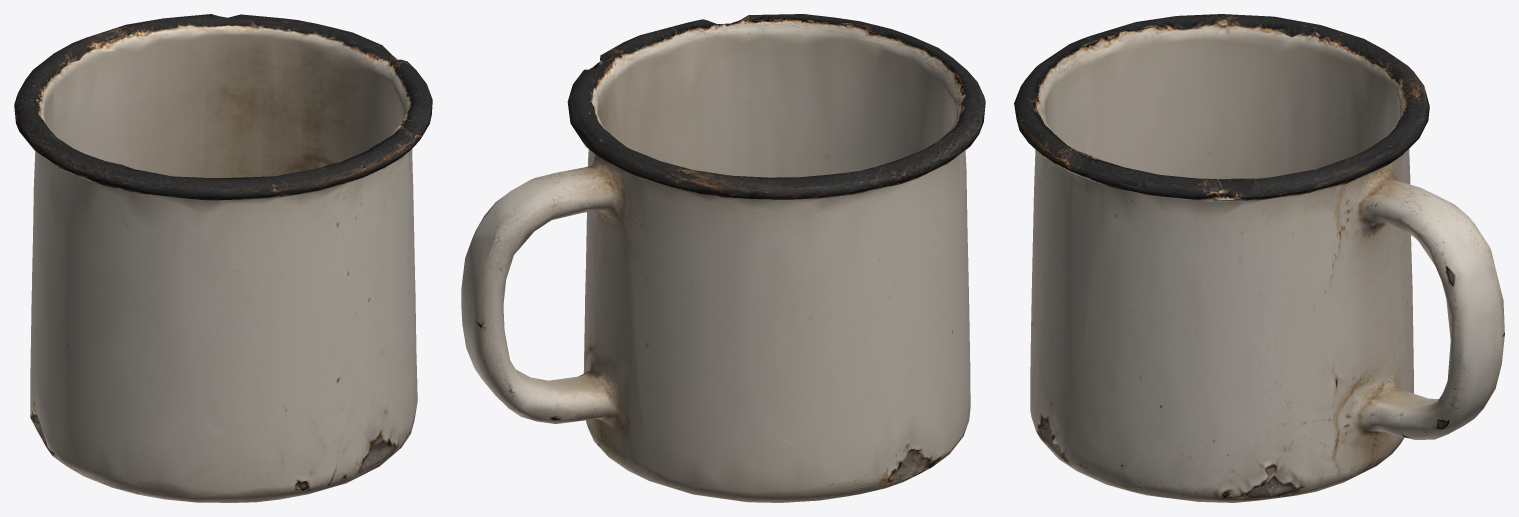
Rendered from PROP-LIFE-MUG.glb.
The picture shows the model from 3 angles, left to right: view 1: azimuth 30°, elevation 25°; view 2: azimuth 150°, elevation 25°; view 3: azimuth 270°, elevation 25°; orthographic projection.
Visible parts, largest first — view 1: tripo_node_a509e55e-d414-42db-ba04-1c2b0a44b03b; view 2: tripo_node_a509e55e-d414-42db-ba04-1c2b0a44b03b; view 3: tripo_node_a509e55e-d414-42db-ba04-1c2b0a44b03b.
Part boxes in pixels (left/top/right/bottom): tripo_node_a509e55e-d414-42db-ba04-1c2b0a44b03b: left=14, top=14, right=432, bottom=502; tripo_node_a509e55e-d414-42db-ba04-1c2b0a44b03b: left=461, top=14, right=985, bottom=502; tripo_node_a509e55e-d414-42db-ba04-1c2b0a44b03b: left=1014, top=14, right=1504, bottom=502.
Bounding box in the file's own units: 0.8782 × 0.7429 × 1.
Materials: 1 (1 with a texture image).
